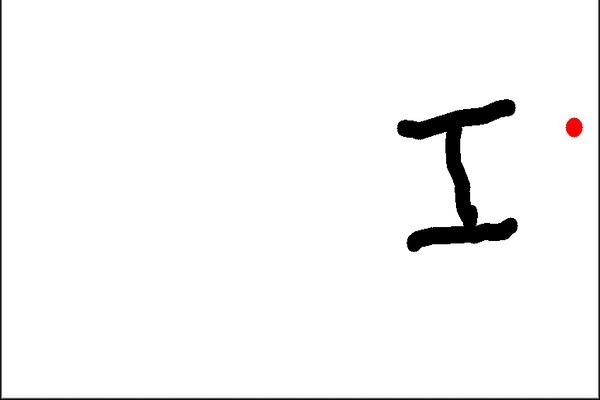i: (391, 90, 532, 253)
